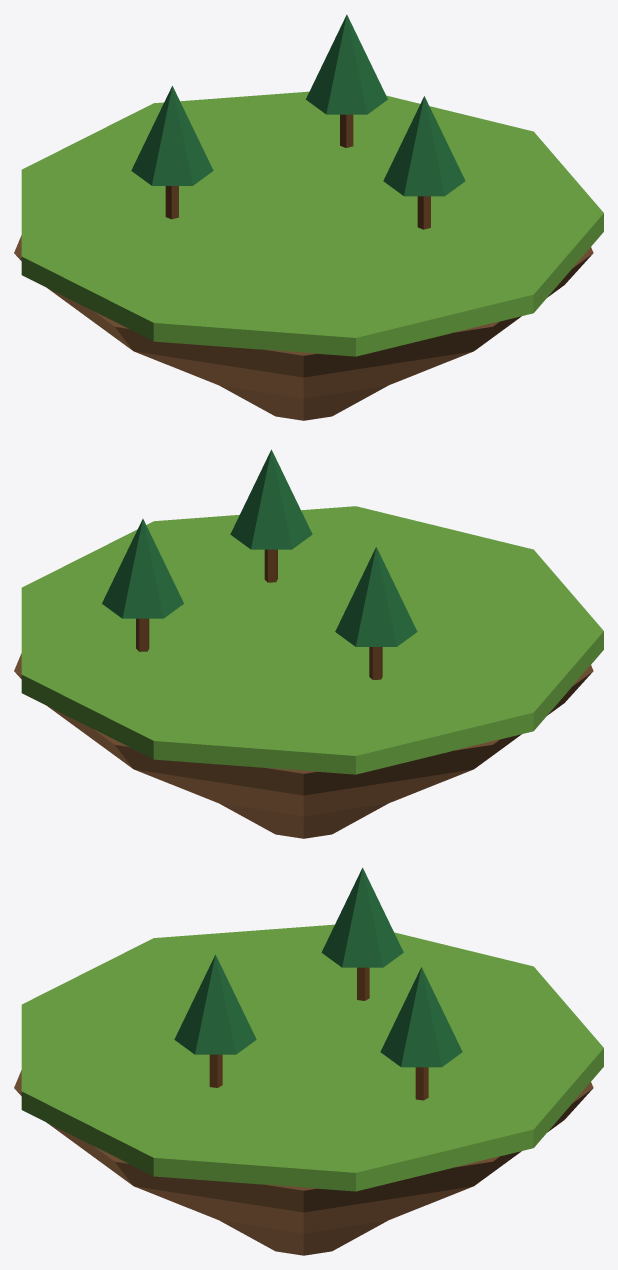
Rendered from sky_island_medium.glb.
The picture shows the model from 3 angles, top to bottom: view 1: azimuth 30°, elevation 25°; view 2: azimuth 150°, elevation 25°; view 3: azimuth 270°, elevation 25°; orthographic projection.
Parts seen in each view (by area): view 1: island_medium; view 2: island_medium; view 3: island_medium.
Boxes of the visible parts, x1,y1,x2,y2 form: island_medium: (14,14,603,420); island_medium: (14,449,603,838); island_medium: (14,867,603,1255).
Bounding box in the file's own units: 10.05 × 6 × 10.02.
